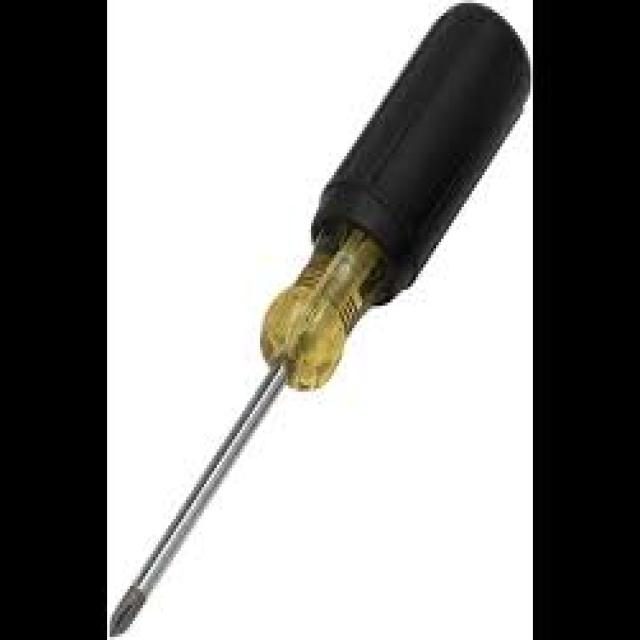screw driver: (108, 0, 520, 639)
